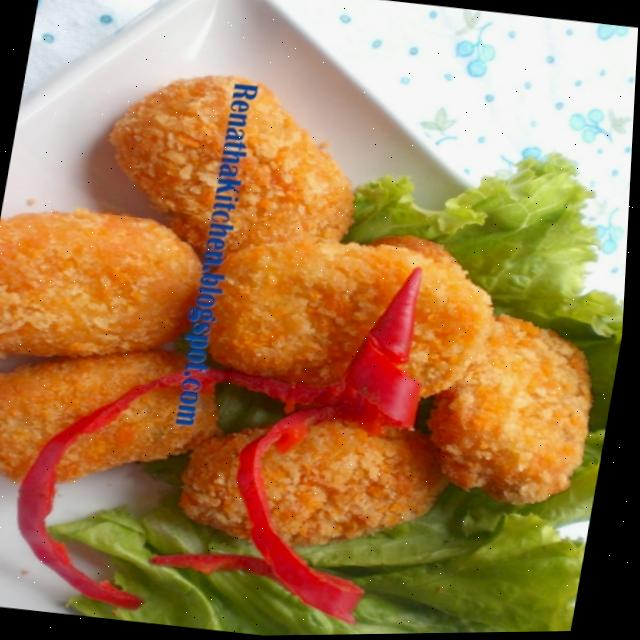鸡肉料理 含炸鸡: (0, 22, 639, 625)
